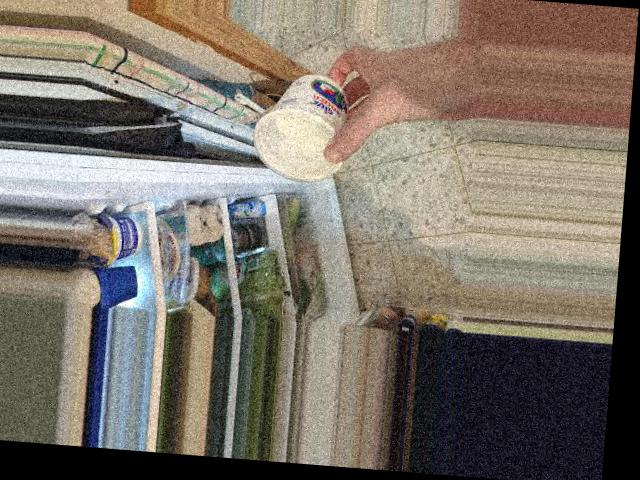cotage: (239, 66, 362, 184)
